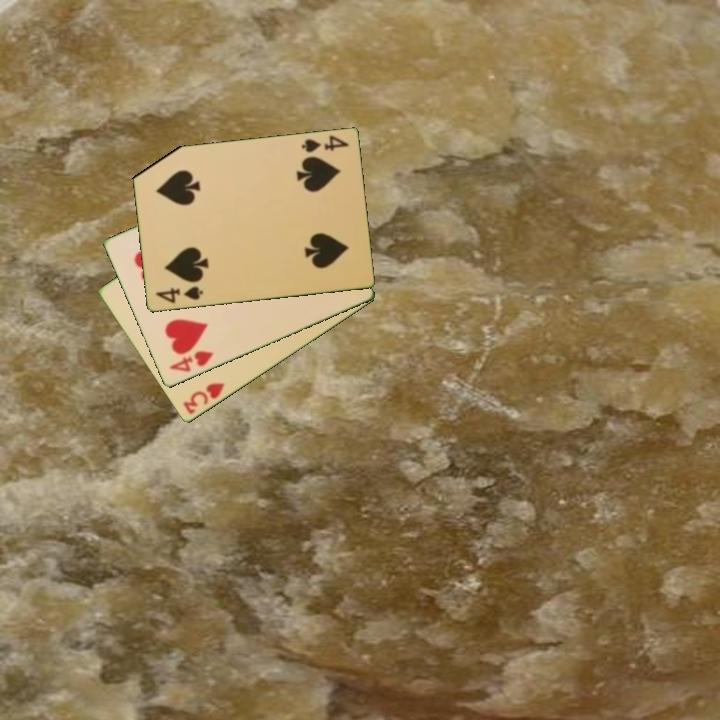3h: (179, 379, 228, 418)
4h: (165, 347, 216, 375)
4s: (298, 132, 352, 156), (152, 283, 206, 306)
